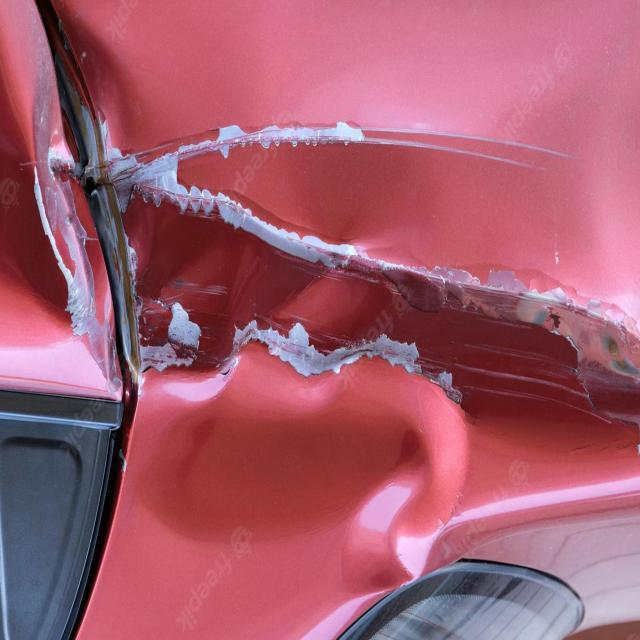dent: (15, 51, 640, 594)
